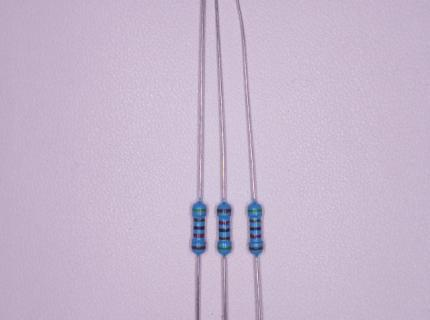Black band: (219, 228, 231, 232), (193, 226, 204, 230), (250, 227, 261, 230)
Brown band: (217, 208, 231, 213), (192, 245, 205, 250), (249, 246, 263, 250), (194, 218, 205, 222), (249, 219, 260, 223), (219, 236, 230, 240)
Green band: (192, 208, 206, 212), (247, 209, 262, 212), (217, 247, 231, 250)
Red band: (250, 234, 261, 238), (219, 221, 230, 225), (193, 233, 204, 237)
